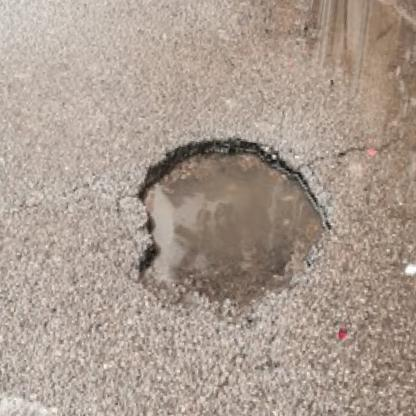pothole: (123, 128, 331, 312)
